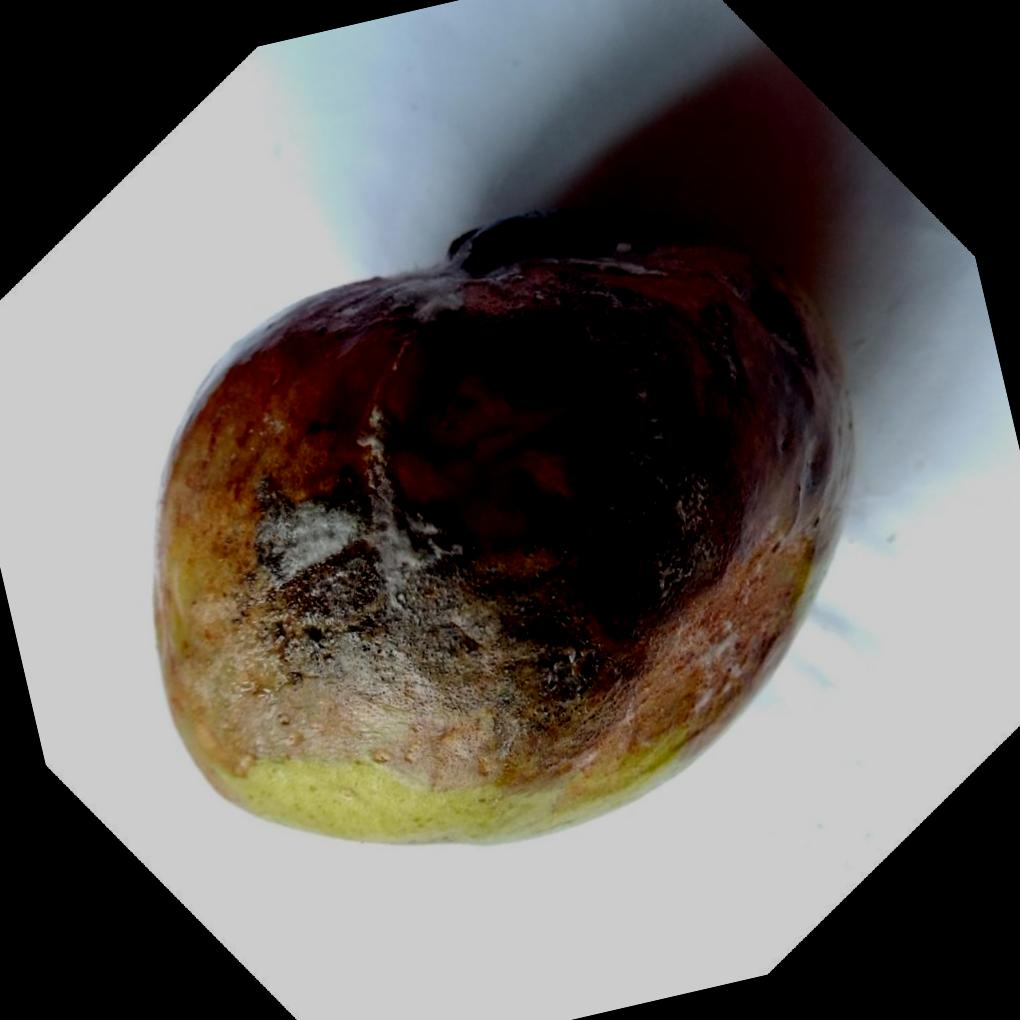FreshOrange: (151, 206, 858, 848)
